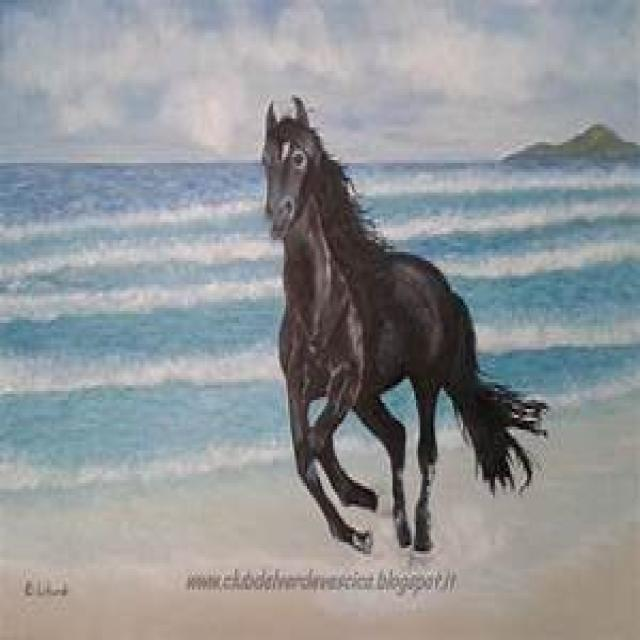horse: (262, 99, 545, 551)
